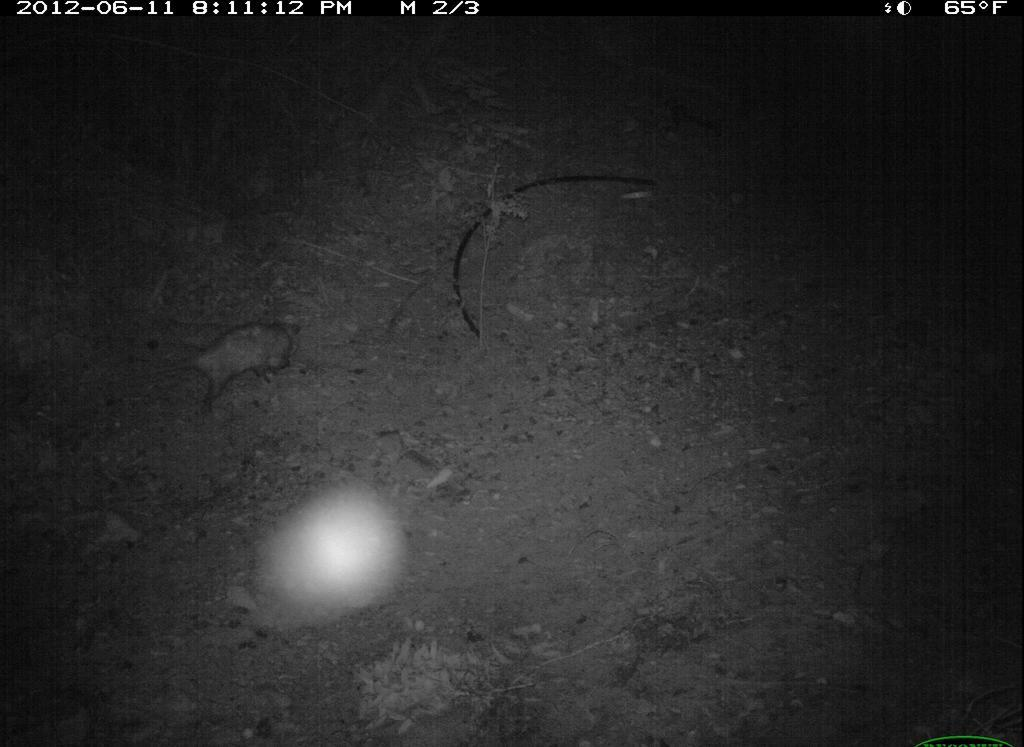opossum: (130, 296, 353, 422)
